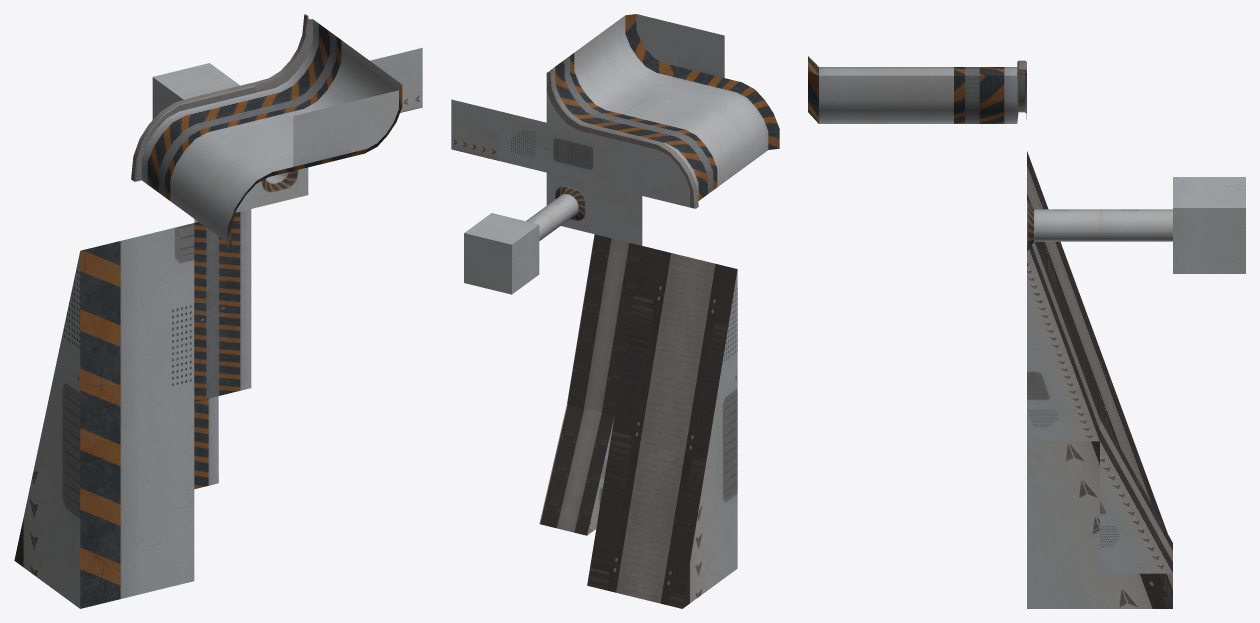
The model's file is Parts.fbx.
The picture shows the model from 3 angles, left to right: view 1: azimuth 30°, elevation 25°; view 2: azimuth 150°, elevation 25°; view 3: azimuth 270°, elevation 25°; orthographic projection. The views are drawn at different scales.
Parts seen in each view (by area): view 1: ramp 2x6, ramp 1x3, Edge_corner_in.001, Edge_corner_out, corner_out, 90 degrees, Edge_corner_out_floor, Edge_corner_in, Cube, corner_in, Edge, ramp 1x2 (+3 smaller); view 2: ramp 2x6, ramp 1x3, ramp 1x2, Cube, Edge_corner_out, Edge_corner_in, Edge, 90 degrees, Edge_corner_out_floor, Edge_corner_in.001, corner_in, corner_out (+6 smaller); view 3: ramp 2x6, ramp 1x3, ramp 1x2, Cube, corner_in, Edge_corner_in.001, Edge_corner_in, Floor.001, Floor.002, Edge_corner_out_floor, Edge_corner_out, corner_out.
Part boxes in pixels (box(x1,y1,x2,y2)): ramp 2x6: box(14, 223, 194, 608); ramp 1x3: box(194, 209, 251, 401); Edge_corner_in.001: box(252, 14, 341, 113); Edge_corner_out: box(131, 97, 226, 200); corner_out: box(170, 127, 259, 224); 90 degrees: box(260, 102, 350, 171); Edge_corner_out_floor: box(203, 152, 292, 250); Edge_corner_in: box(346, 64, 402, 157); Cube: box(152, 63, 239, 119); corner_in: box(285, 40, 374, 119); Edge: box(195, 83, 283, 127); ramp 1x2: box(194, 396, 218, 489); ramp 2x6: box(587, 246, 737, 608); ramp 1x3: box(567, 234, 641, 415); ramp 1x2: box(539, 404, 614, 535); Cube: box(464, 213, 539, 294); Edge_corner_out: box(642, 126, 717, 208); Edge_corner_in: box(602, 14, 676, 93); Edge: box(594, 114, 669, 195); 90 degrees: box(650, 24, 724, 105); Edge_corner_out_floor: box(698, 78, 779, 166); Edge_corner_in.001: box(546, 53, 621, 133); corner_in: box(574, 32, 648, 113); corner_out: box(670, 105, 744, 186); ramp 2x6: box(1027, 151, 1172, 608); ramp 1x3: box(1027, 241, 1099, 441); ramp 1x2: box(1100, 411, 1172, 573); Cube: box(1173, 177, 1245, 273); corner_in: box(881, 75, 953, 123); Edge_corner_in.001: box(954, 69, 1026, 123); Edge_corner_in: box(808, 71, 880, 123); Floor.001: box(1027, 200, 1099, 250); Floor.002: box(1100, 209, 1172, 241); Edge_corner_out_floor: box(808, 56, 880, 75); Edge_corner_out: box(954, 60, 1026, 75); corner_out: box(881, 67, 953, 75).
Bounding box in the file's own units: 1200 × 1811 × 1200.
